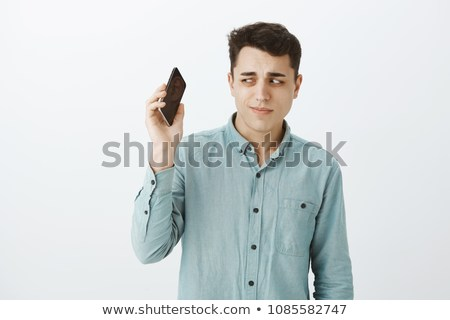phone: (159, 64, 189, 126)
